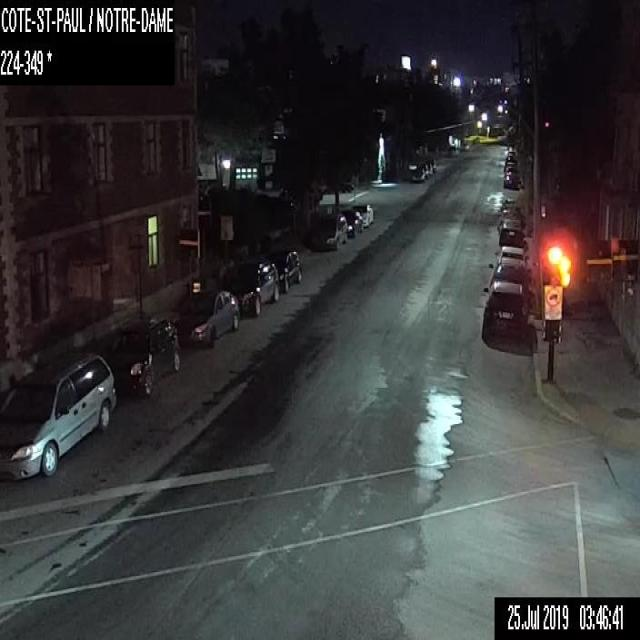vehicle: (0, 352, 115, 479), (102, 318, 180, 396), (174, 290, 238, 350), (222, 259, 280, 315), (481, 278, 530, 344), (487, 256, 531, 294), (306, 213, 347, 251), (268, 250, 302, 292), (493, 245, 529, 273), (336, 209, 362, 237), (498, 217, 523, 245), (350, 203, 373, 226), (404, 164, 424, 182), (497, 206, 522, 218), (502, 172, 516, 188), (499, 196, 517, 207), (418, 163, 428, 178), (506, 150, 516, 163), (424, 162, 432, 176), (504, 162, 514, 172), (428, 159, 436, 171), (504, 155, 513, 161)
